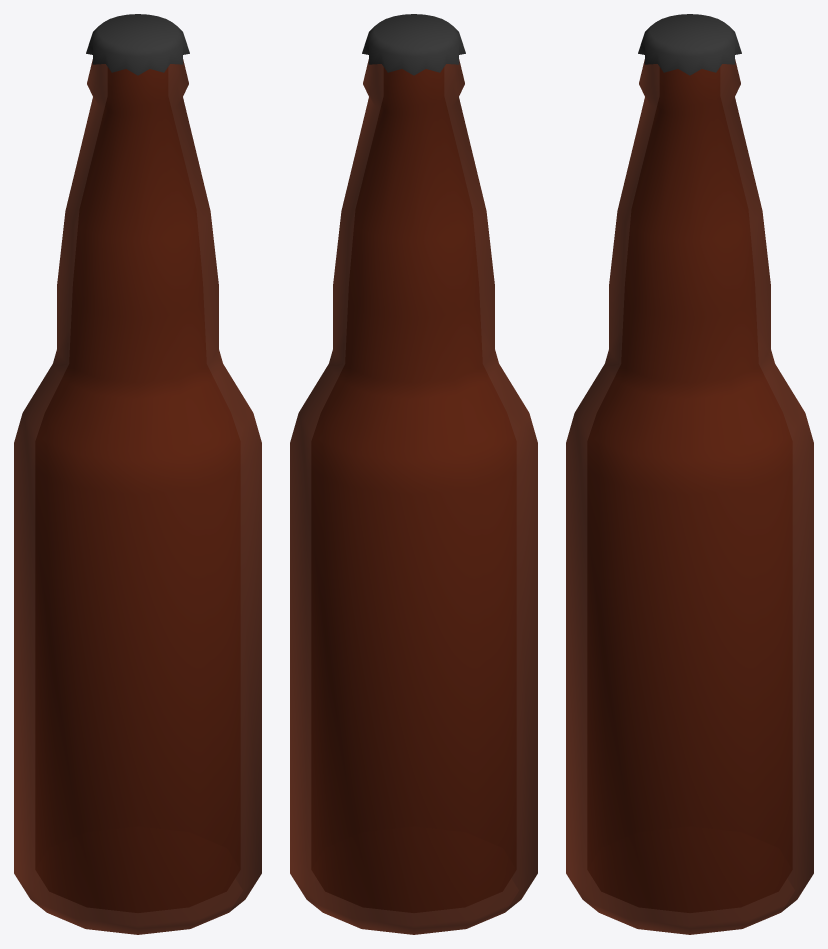
Rendered from BeerBottle.FBX.
The picture shows the model from 3 angles, left to right: view 1: azimuth 30°, elevation 25°; view 2: azimuth 150°, elevation 25°; view 3: azimuth 270°, elevation 25°; orthographic projection.
Parts seen in each view (by area): view 1: BeerBottle; view 2: BeerBottle; view 3: BeerBottle.
Boxes of the visible parts, <box> form: BeerBottle: <box>14,14,261,934</box>; BeerBottle: <box>290,14,537,934</box>; BeerBottle: <box>566,14,813,934</box>.
Size of the model in its own units: 26.49 by 101 by 26.49.
